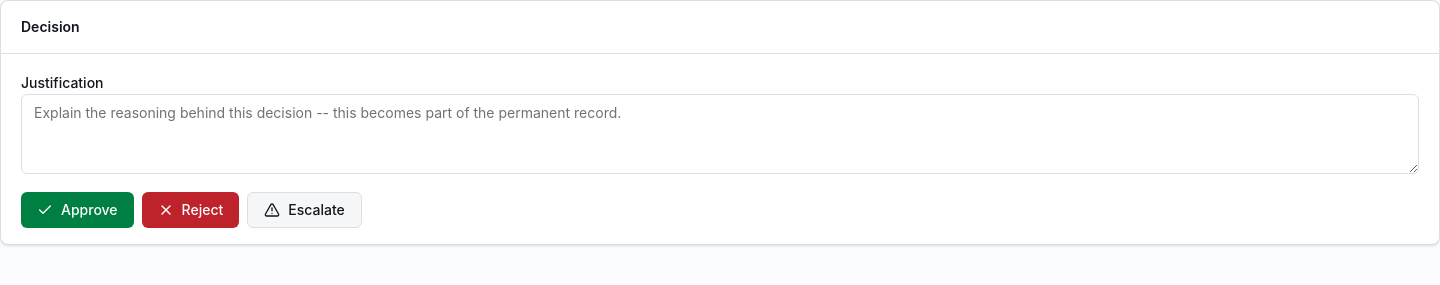
Test: DecisionPanel › clears the error once the reviewer starts typing
Click the button "Approve": (77, 210) [21, 192, 134, 228]
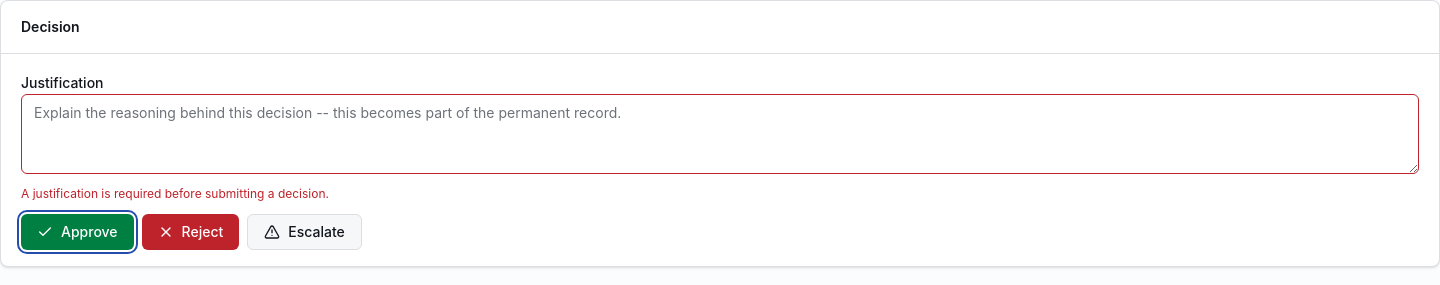
Now the text "A justification is required before submitting a decision." is shown, box [21, 186, 329, 201]
In the text box labelled "Justification": (720, 134) [21, 94, 1419, 174], type "a"
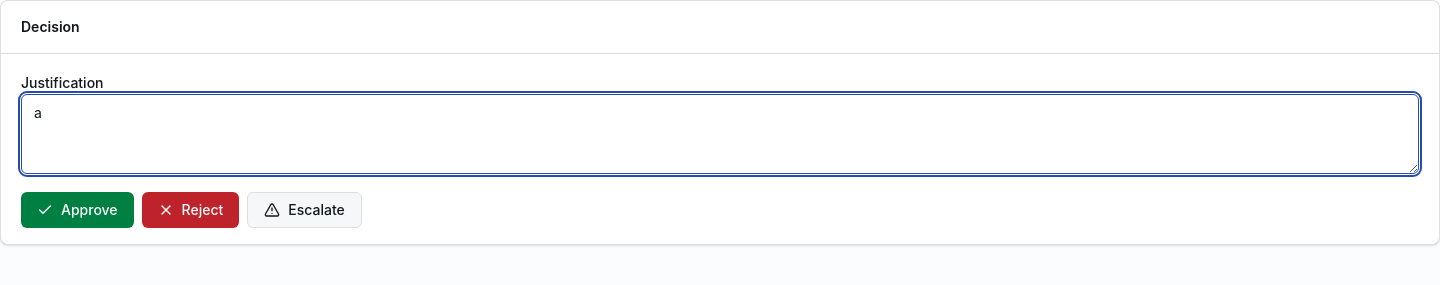
Now the text "justification is required" is gone
